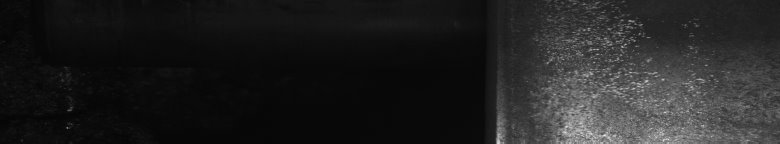kb: (512, 4, 776, 136)
